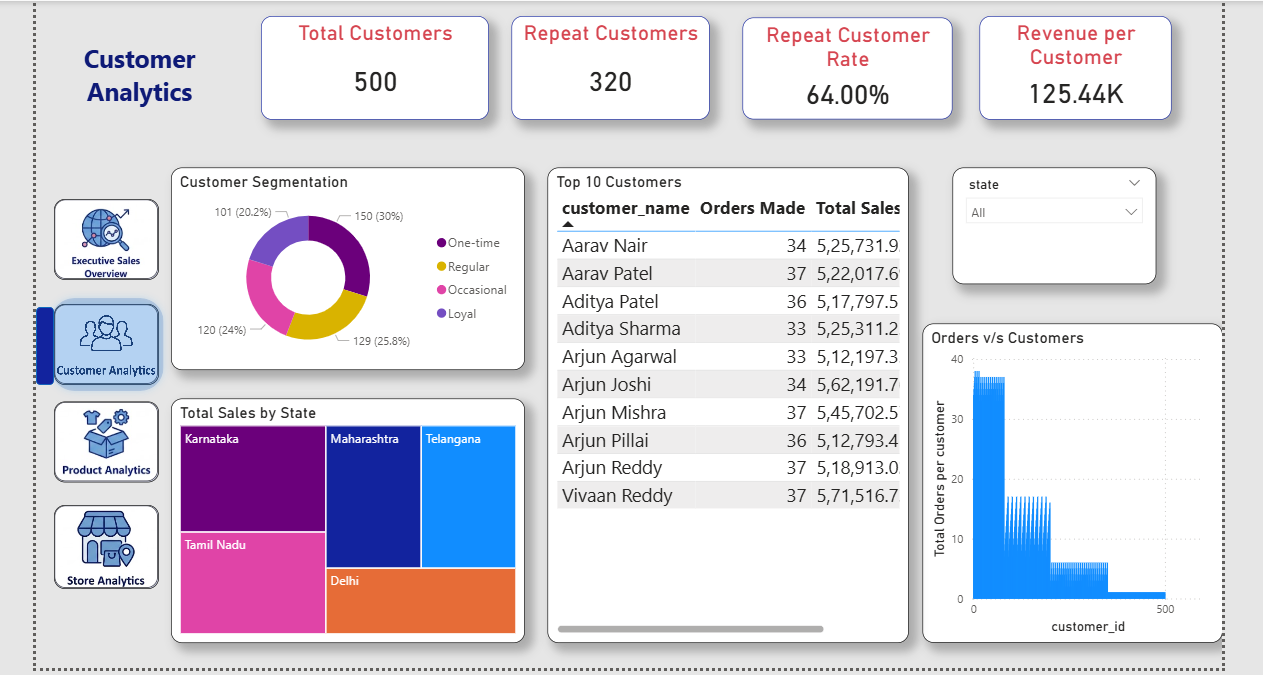

This screenshot's page, from the dashboard's own definition file:
{"tool":"powerbi","page":{"name":"Customer Analytics","canvas":[1280,720],"ordinal":1},"visuals":[{"type":"card","title":"Total Customers","fields":{"Values":["CountNonNull(sql_interview_db customers.customer_id)"]},"box":[242.9,16.2,246.1,111.7],"z":0},{"type":"card","title":"Repeat Customers","fields":{"Values":["sql_interview_db customers.Repeat Customer"]},"box":[513.3,16.2,213.7,111.7],"z":1000},{"type":"card","title":"Repeat Customer Rate","fields":{"Values":["sql_interview_db customers.Repeat Customer Rate"]},"box":[762.7,17.8,226.7,110.1],"z":2000},{"type":"card","title":"Revenue per Customer","fields":{"Values":["sql_interview_db customers.Revenue Per Customer"]},"box":[1018.5,16.2,207.3,111.7],"z":3000},{"type":"textbox","box":[0,38.9,223.5,89.1],"z":4000},{"type":"donutChart","title":"Customer Segmentation","fields":{"Category":["sql_interview_db customers.Customer Segment"],"Y":["CountNonNull(sql_interview_db customers.customer_id)"]},"box":[145.7,179.7,382.1,218.6],"z":5000},{"type":"clusteredColumnChart","title":"Orders v/s Customers","fields":{"Y":["sql_interview_db customers.Total Orders per customer"],"Category":["sql_interview_db customers.customer_id"]},"box":[957,348.1,323.8,344.9],"z":6000},{"type":"treemap","title":"Total Sales by State","fields":{"Group":["sql_interview_db customers.state"],"Values":["sql_interview_db customers.Total Sales"]},"box":[145.7,429.1,382.1,263.9],"z":7000},{"type":"tableEx","title":"Top 10 Customers","fields":{"Values":["sql_interview_db customers.customer_name","sql_interview_db customers.Total Orders per customer","sql_interview_db customers.Total Sales","sql_interview_db customers.Customer Segment"]},"box":[552.2,179.7,390.2,513.3],"z":8000},{"type":"slicer","fields":{"Values":["sql_interview_db customers.state"]},"box":[989.3,179.7,220.2,126.3],"z":9000},{"type":"image","box":[19.4,213.7,113.3,87.4],"z":10000},{"type":"image","box":[19.4,327.1,113.3,87.4],"z":11000},{"type":"image","box":[19.4,432.3,113.3,87.4],"z":12000},{"type":"image","box":[19.4,544.1,113.3,90.7],"z":13000},{"type":"shape","box":[8.1,312.5,137.6,116.6],"z":14000},{"type":"shape","box":[0,330.3,19.4,84.2],"z":15000}]}

Visuals, with their boxes in screenshot pixels (x1, y1, x2, y2):
"Total Customers" card: 257,12,484,115
"Repeat Customers" card: 507,12,704,115
"Repeat Customer Rate" card: 737,13,947,115
"Revenue per Customer" card: 973,12,1165,115
textbox: 33,33,239,115
"Customer Segmentation" donutChart: 167,163,520,365
"Orders v/s Customers" clusteredColumnChart: 917,318,1216,637
"Total Sales by State" treemap: 167,393,520,637
"Top 10 Customers" tableEx: 543,163,903,637
slicer - sql_interview_db customers.state: 947,163,1150,279
image: 51,194,155,275
image: 51,299,155,380
image: 51,396,155,477
image: 51,499,155,583
shape: 40,285,167,393
shape: 33,302,51,380
